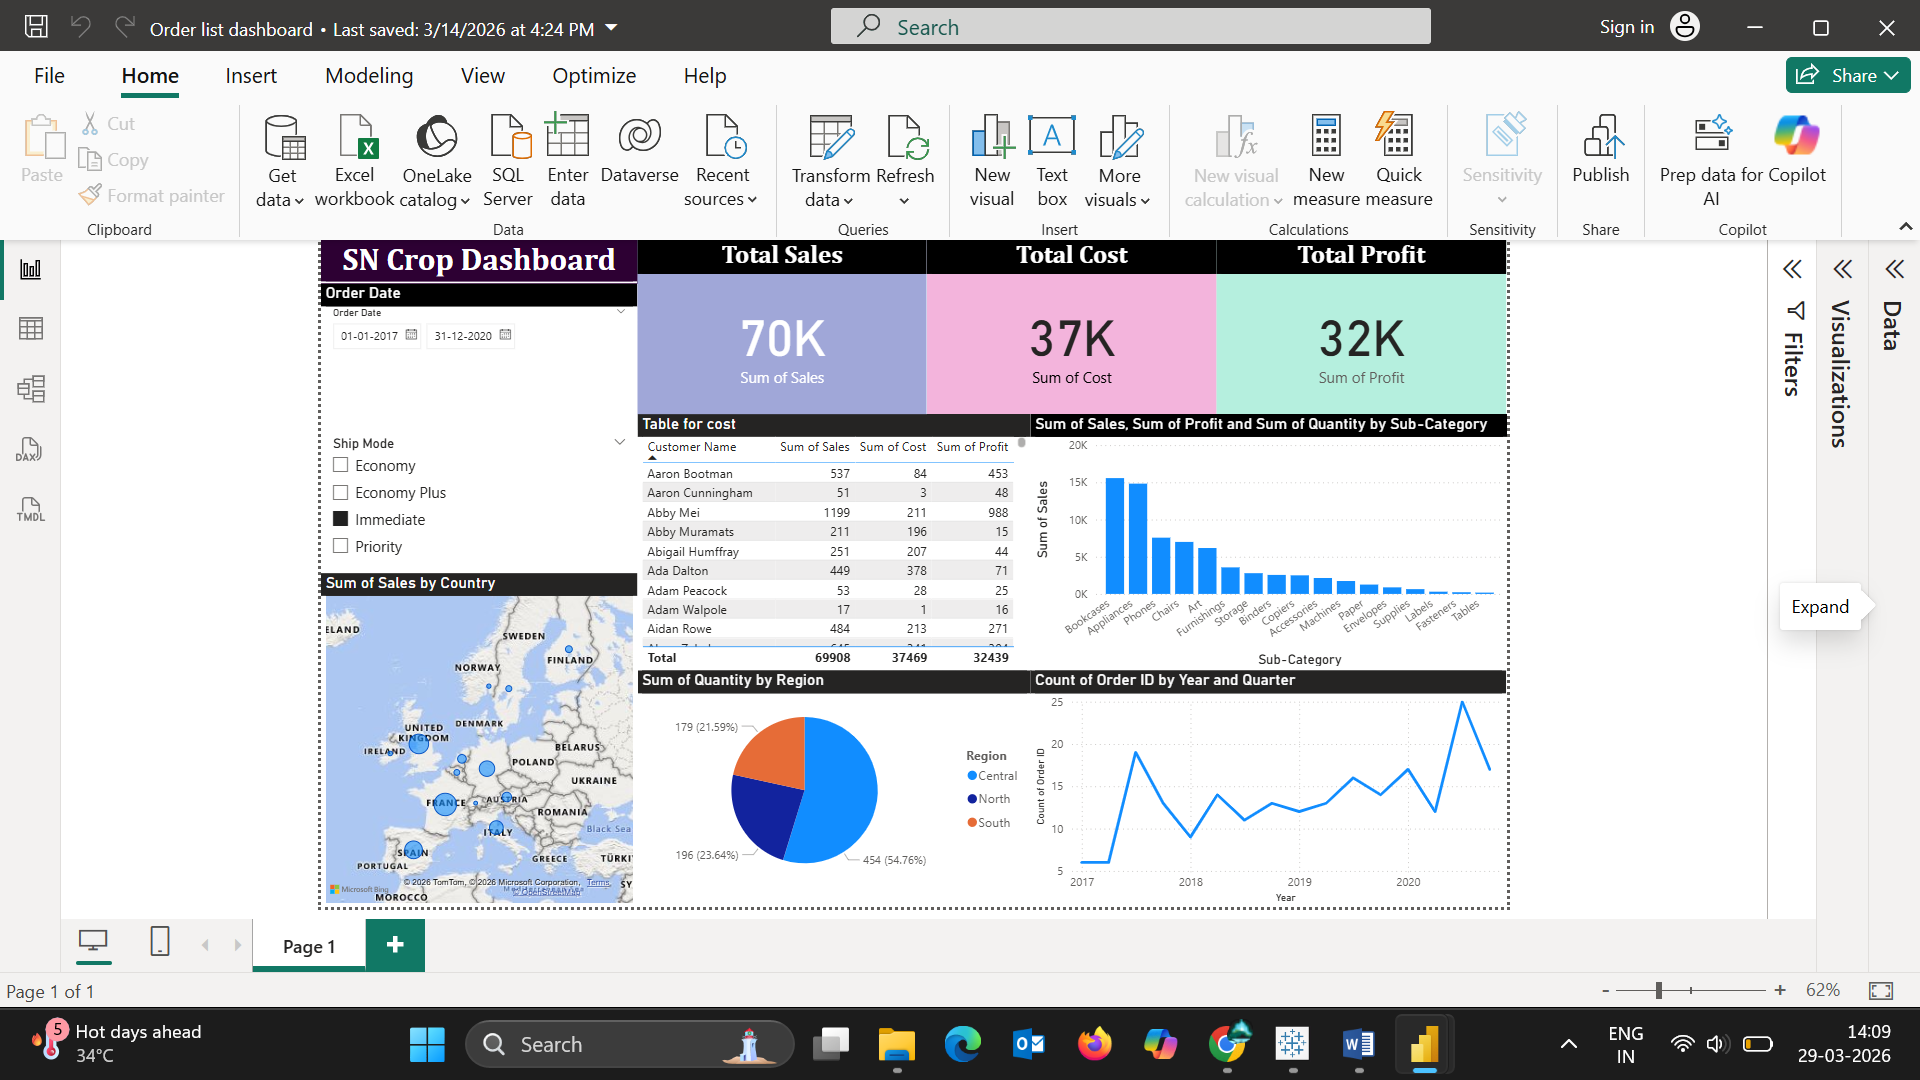

What the dashboard file says about the page in this screenshot:
{"tool":"powerbi","page":{"name":"Page 1","canvas":[1280,720],"ordinal":0},"visuals":[{"type":"slicer","title":"Order Date","fields":{"Values":["List of Orders.Order Date"]},"box":[0,47,341.7,103.6],"z":0},{"type":"card","title":"Total Cost","fields":{"Values":["Sum(List of Orders.Cost)"]},"box":[654.2,0,312.5,187.8],"z":1000},{"type":"card","title":"Total Profit","fields":{"Values":["Sum(List of Orders.Profit)"]},"box":[966.7,0,312.5,187.8],"z":2000},{"type":"tableEx","title":"Table for cost","fields":{"Values":["List of Orders.Customer Name","Sum(List of Orders.Sales)","Sum(List of Orders.Cost)","Sum(List of Orders.Profit)"]},"box":[341.7,187.8,424.2,276.9],"z":3000},{"type":"clusteredColumnChart","fields":{"Category":["List of Orders.Sub-Category"],"Y":["Sum(List of Orders.Sales)"]},"box":[765.9,187.8,514.9,276.9],"z":4000},{"type":"pieChart","fields":{"Y":["Sum(List of Orders.Quantity)"],"Category":["List of Orders.Region"]},"box":[341.7,465,425,238.3],"z":5000},{"type":"lineChart","fields":{"Y":["CountNonNull(List of Orders.Order ID)"],"Category":["List of Orders.Order Date.Variation.Date Hierarchy.Year","List of Orders.Order Date.Variation.Date Hierarchy.Quarter"]},"box":[766.7,465,513.3,255],"z":6000},{"type":"map","fields":{"Category":["List of Orders.Country"],"Size":["Sum(List of Orders.Sales)"]},"box":[0,359.5,341.7,361.1],"z":7000},{"type":"textbox","title":"SN Crop Dashboard","box":[0,0,341.7,47],"z":8000},{"type":"slicer","fields":{"Values":["List of Orders.Ship Mode"]},"box":[0,205.6,341.7,153.8],"z":9000},{"type":"card","title":"Total Sales","fields":{"Values":["Sum(List of Orders.Sales)"]},"box":[341.7,0,312,187.8],"z":10000}]}

Visuals, with their boxes on the page's 1280x720 design canvas (x1, y1, x2, y2). These are canvas units, not pixel positions in the 1920x1080 screenshot, which may show the page scaled, cropped or inside an application window:
"Order Date" slicer: select_region(0, 47, 342, 151)
"Total Cost" card: select_region(654, 0, 967, 188)
"Total Profit" card: select_region(967, 0, 1279, 188)
"Table for cost" tableEx: select_region(342, 188, 766, 465)
clusteredColumnChart - List of Orders.Sub-Category x Sum(List of Orders.Sales): select_region(766, 188, 1281, 465)
pieChart - Sum(List of Orders.Quantity) x List of Orders.Region: select_region(342, 465, 767, 703)
lineChart - CountNonNull(List of Orders.Order ID) x List of Orders.Order Date.Variation.Date Hierarchy.Year: select_region(767, 465, 1280, 720)
map - List of Orders.Country x Sum(List of Orders.Sales): select_region(0, 360, 342, 721)
"SN Crop Dashboard" textbox: select_region(0, 0, 342, 47)
slicer - List of Orders.Ship Mode: select_region(0, 206, 342, 359)
"Total Sales" card: select_region(342, 0, 654, 188)
